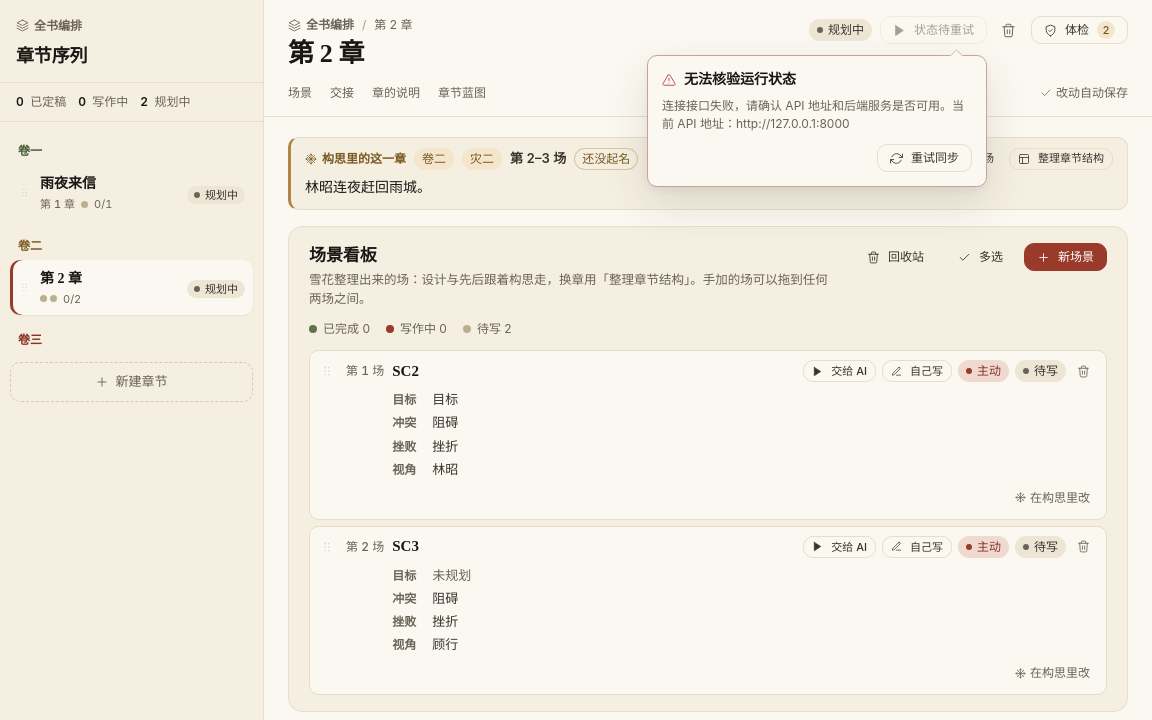
Test: 章节编排 · 服务端目录真相 › 章节详情：构思条说得出这一章是什么，入口 / 出口、视角 · 时空取自各场，体检不再摆假的对勾
Check: the element with test id "arr-plan-strip" shows "卷二", box [422, 150, 446, 166]
Check: the element with test id "arr-plan-strip" shows "灾二", box [470, 150, 494, 166]
Click the button with test id "arr-plan-open" at (1061, 158), box [1009, 148, 1113, 170]
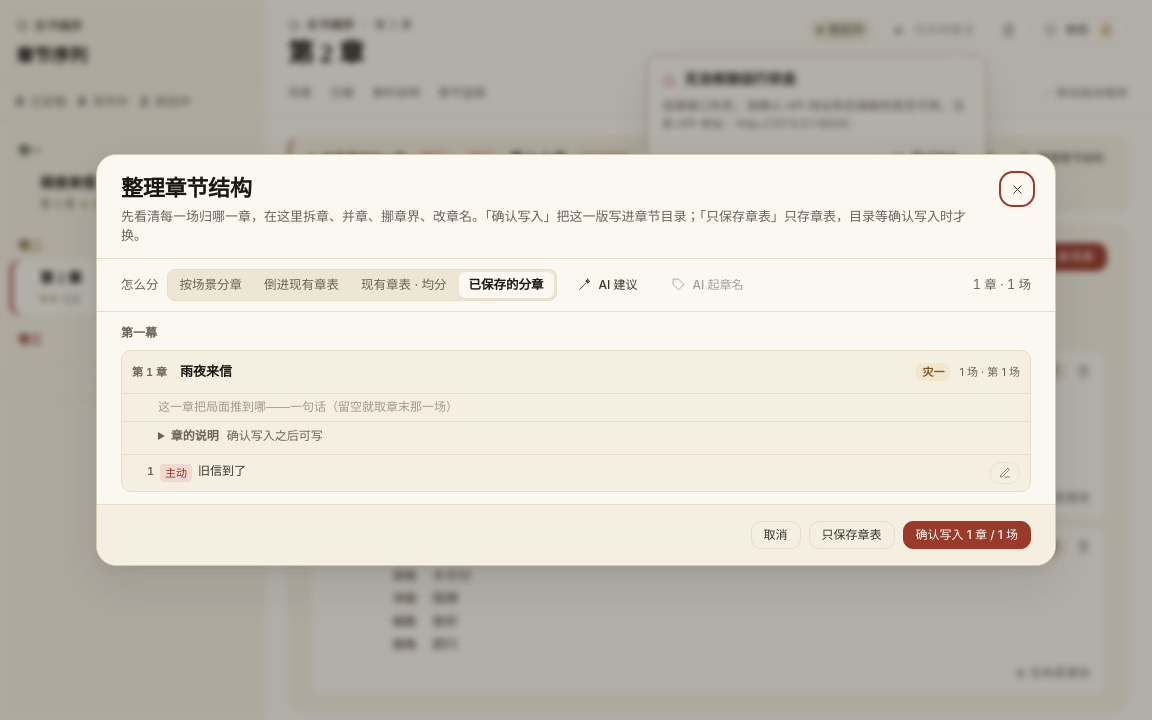
Check: the dialog with test id "chapter-plan-panel" is shown, box [96, 154, 1056, 566]
